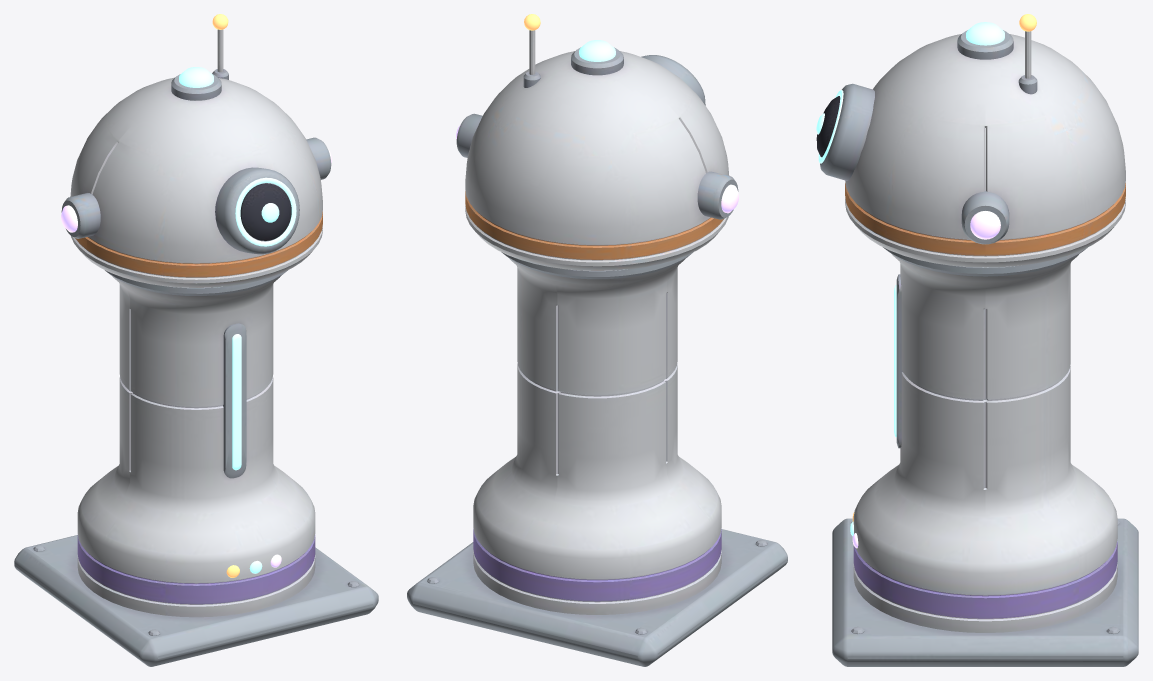
The model's file is sci-fi-turret.glb.
3 views of the same model, side by side, from view 1: azimuth 30°, elevation 25°; view 2: azimuth 150°, elevation 25°; view 3: azimuth 270°, elevation 25° (orthographic). The views are drawn at different scales.
Visible parts, largest first — view 1: sci-fi-turret_body, sci-fi-turret_dome, sci-fi-turret_dome_lights_glow, sci-fi-turret_base_lights_glow; view 2: sci-fi-turret_body, sci-fi-turret_dome, sci-fi-turret_dome_lights_glow; view 3: sci-fi-turret_body, sci-fi-turret_dome, sci-fi-turret_dome_lights_glow, sci-fi-turret_base_lights_glow.
Part boxes in pixels (box(x1,y1,x2,y2)): sci-fi-turret_body: box(14, 270, 378, 666); sci-fi-turret_dome: box(61, 29, 331, 287); sci-fi-turret_dome_lights_glow: box(61, 14, 331, 246); sci-fi-turret_base_lights_glow: box(226, 334, 281, 577); sci-fi-turret_body: box(407, 252, 787, 666); sci-fi-turret_dome: box(456, 30, 738, 270); sci-fi-turret_dome_lights_glow: box(456, 14, 738, 213); sci-fi-turret_body: box(832, 247, 1138, 666); sci-fi-turret_dome: box(816, 30, 1125, 267); sci-fi-turret_dome_lights_glow: box(816, 14, 1036, 239); sci-fi-turret_base_lights_glow: box(850, 285, 896, 548).
Bounding box in the file's own units: 0.7951 × 1.6 × 0.7579.
Materials: 9 (2 with a texture image).
